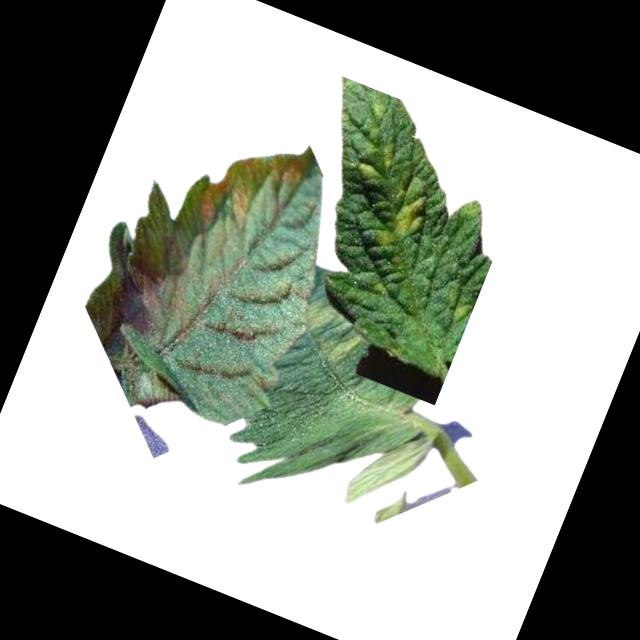Leaf_Mold: (182, 120, 313, 260), (367, 173, 437, 261), (289, 295, 369, 370), (350, 128, 406, 192)
